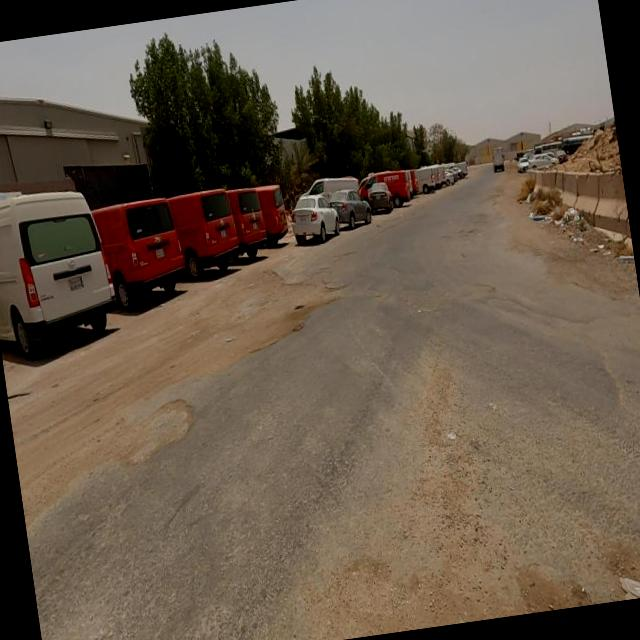debris: (552, 195, 640, 304), (492, 168, 580, 267), (529, 158, 605, 268)
